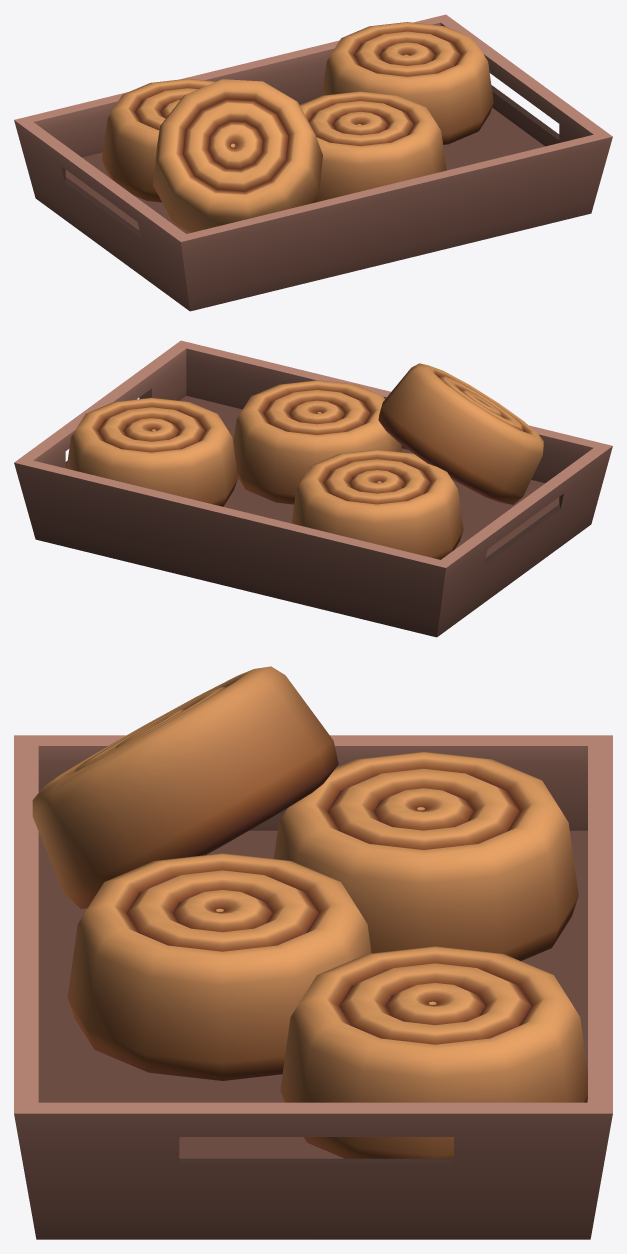
Rendered from Zimtschneckenfbx.fbx.
3 renders of one model, top to bottom at view 1: azimuth 30°, elevation 25°; view 2: azimuth 150°, elevation 25°; view 3: azimuth 270°, elevation 25°, orthographic. The views are drawn at different scales.
Visible parts, largest first — view 1: Plane.009, Cylinder.034, Cylinder.035, Cylinder.033, Cylinder.032; view 2: Plane.009, Cylinder.032, Cylinder.034, Cylinder.035, Cylinder.033; view 3: Plane.009, Cylinder.033, Cylinder.032, Cylinder.035, Cylinder.034.
Boxes of the visible parts, <box> form: Plane.009: <box>14,14,612,311</box>; Cylinder.034: <box>153,79,322,232</box>; Cylinder.035: <box>322,22,493,144</box>; Cylinder.033: <box>300,91,446,202</box>; Cylinder.032: <box>102,78,215,202</box>; Plane.009: <box>14,340,612,637</box>; Cylinder.032: <box>291,449,463,559</box>; Cylinder.034: <box>378,363,543,504</box>; Cylinder.035: <box>66,397,237,506</box>; Cylinder.033: <box>233,380,402,504</box>; Plane.009: <box>14,735,612,1239</box>; Cylinder.033: <box>67,853,371,1080</box>; Cylinder.032: <box>274,751,578,960</box>; Cylinder.035: <box>280,946,587,1158</box>; Cylinder.034: <box>32,666,338,908</box>.
Bounding box in the file's own units: 23.03 × 8.35 × 15.41.
